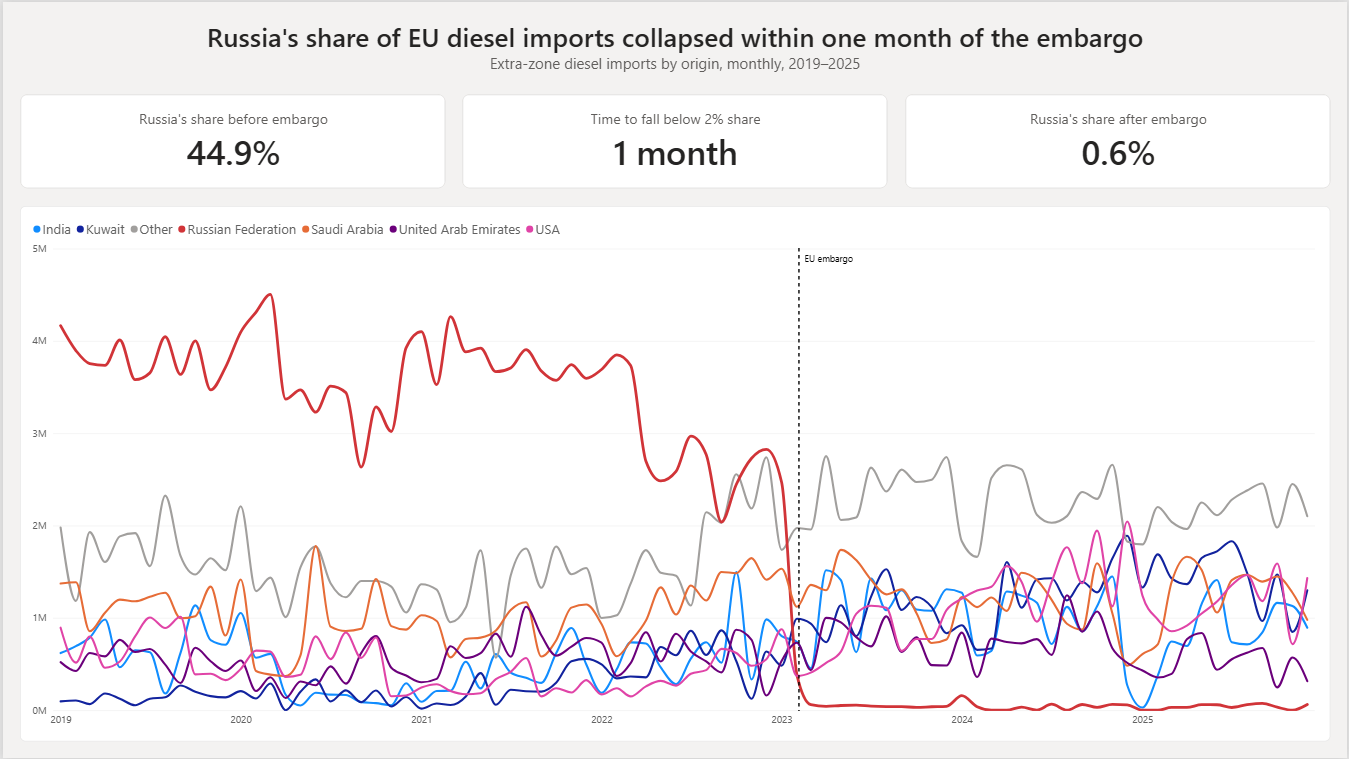

What the dashboard file says about the page in this screenshot:
{"tool":"powerbi","page":{"name":"Overview","canvas":[1920,1080],"ordinal":0},"visuals":[{"type":"lineChart","title":"EU diesel imports from outside the zone","fields":{"Category":["date_dim.Date"],"Series":["market_shares.origin"],"Y":["Sum(market_shares.tonnes)"]},"box":[24,291,1872,765],"z":0},{"type":"cardVisual","fields":{"Data":["market_shares.Russia Share Before"]},"box":[24,132,608,135],"z":1000},{"type":"cardVisual","fields":{"Data":["market_shares.Russia Share After"]},"box":[1288,132,608,135],"z":2000},{"type":"cardVisual","fields":{"Data":["market_shares.Transition Speed"]},"box":[656,132,608,135],"z":3000},{"type":"textbox","box":[24,24,1872,84],"z":4000}]}

Visuals, with their boxes in screenshot pixels (x1, y1, x2, y2), scaled from the page's 1920x1080 canvas onto the 1349x759 screenshot:
"EU diesel imports from outside the zone" lineChart: bbox=[17, 205, 1332, 742]
cardVisual - market_shares.Russia Share Before: bbox=[17, 93, 444, 188]
cardVisual - market_shares.Russia Share After: bbox=[905, 93, 1332, 188]
cardVisual - market_shares.Transition Speed: bbox=[461, 93, 888, 188]
textbox: bbox=[17, 17, 1332, 76]
